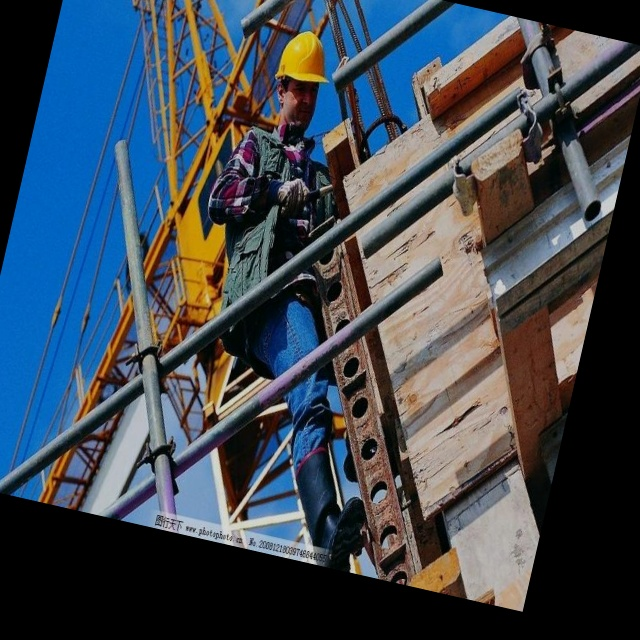Con_Casco: (270, 27, 336, 127)
